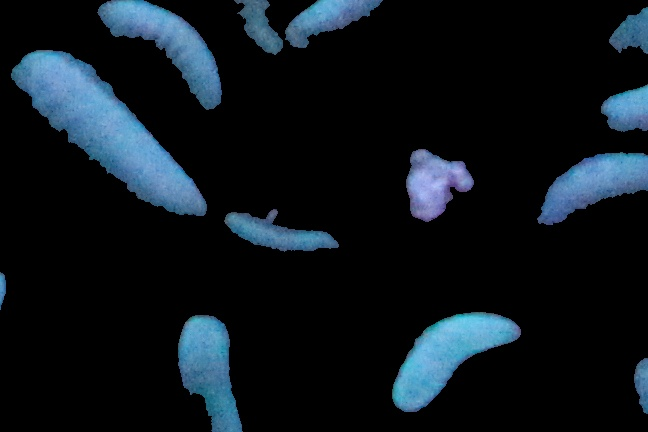larvae: (13, 49, 207, 219), (102, 1, 224, 118), (394, 310, 523, 409), (536, 148, 648, 227), (175, 312, 246, 432), (221, 210, 341, 255), (286, 1, 385, 49)
